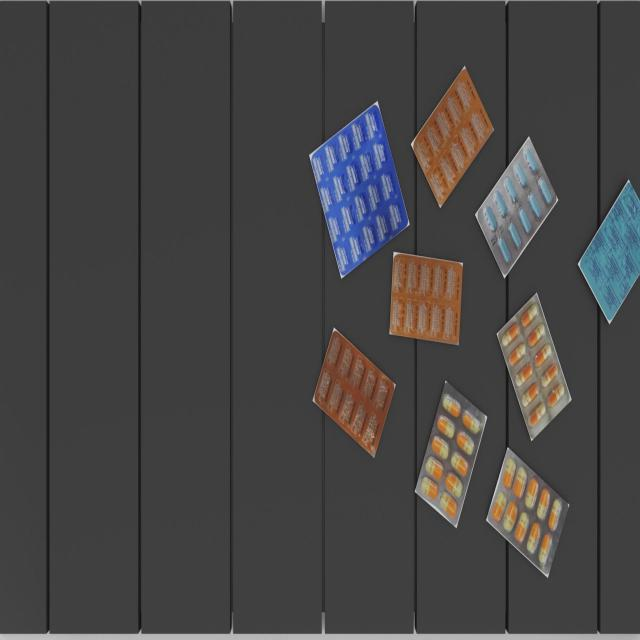blister: (306, 98, 410, 283), (408, 58, 494, 212), (473, 132, 558, 278), (410, 374, 487, 531), (308, 326, 396, 460), (496, 291, 573, 444), (487, 448, 569, 578), (579, 169, 640, 331), (387, 244, 466, 350)
